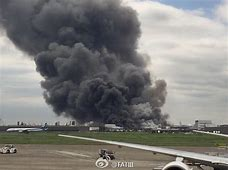smoke: (1, 1, 167, 124)
